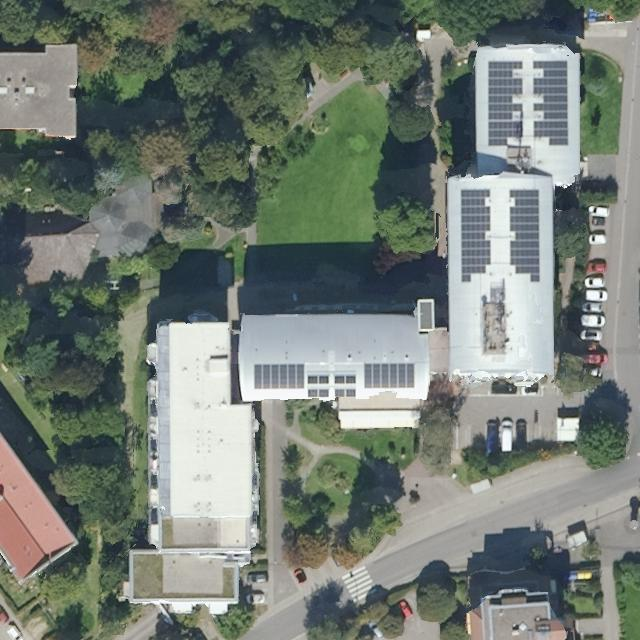PV: (457, 186, 498, 293), (482, 55, 528, 150), (503, 186, 544, 290), (530, 57, 571, 149), (358, 359, 419, 392), (251, 360, 309, 393)
